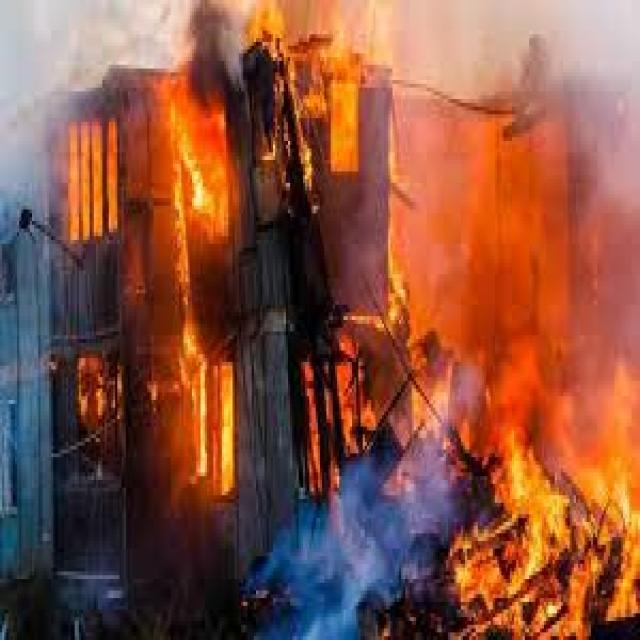Fire: (461, 423, 638, 640), (159, 76, 237, 483), (263, 5, 384, 194)
Smoke: (385, 0, 640, 405), (258, 449, 445, 640), (4, 0, 54, 624)
